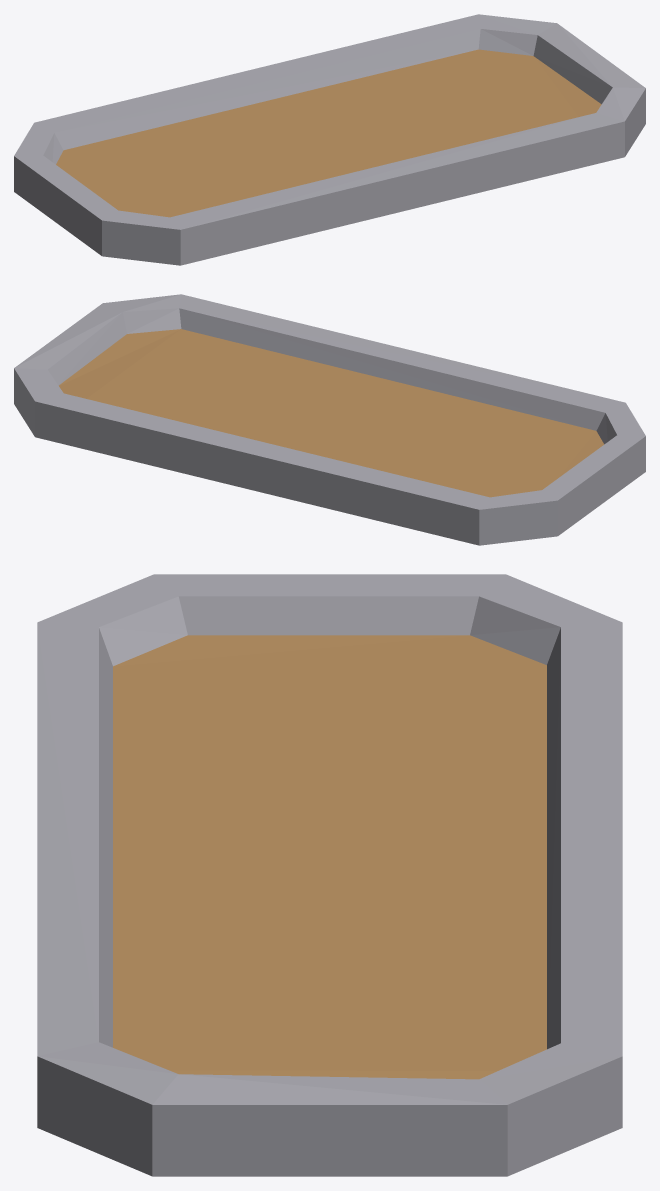
Rendered from trees_bed_2.fbx.
3 renders of one model, top to bottom at view 1: azimuth 30°, elevation 25°; view 2: azimuth 150°, elevation 25°; view 3: azimuth 270°, elevation 25°, orthographic. The views are drawn at different scales.
Visible parts, largest first — view 1: trees_bed_2; view 2: trees_bed_2; view 3: trees_bed_2.
Boxes of the visible parts, x1=… form: trees_bed_2: x1=14, y1=14, x2=645, y2=265; trees_bed_2: x1=14, y1=294, x2=645, y2=545; trees_bed_2: x1=37, y1=574, x2=622, y2=1176.
Size of the model in its own units: 745 by 50.06 by 348.
